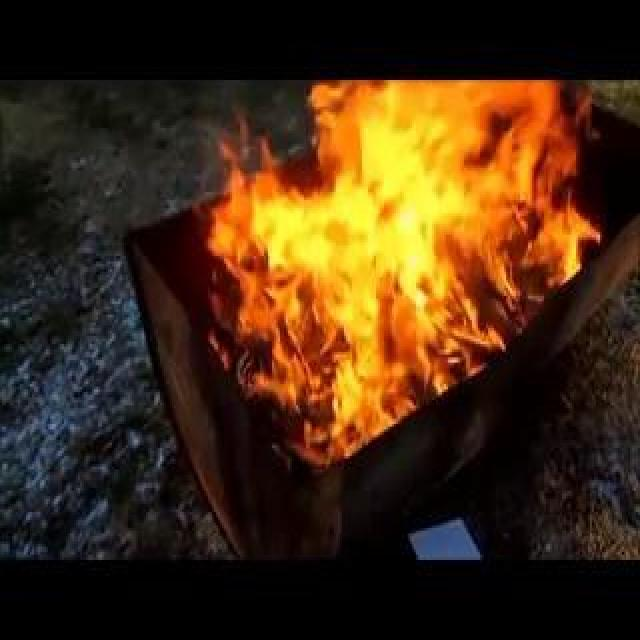Fire: (390, 286, 422, 402)
